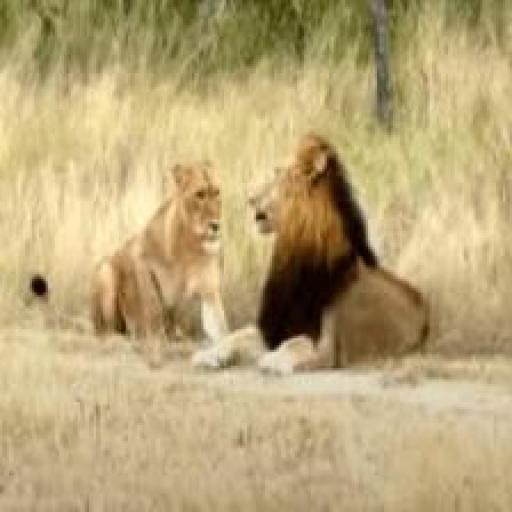lion: (247, 132, 452, 412), (34, 135, 236, 386)
